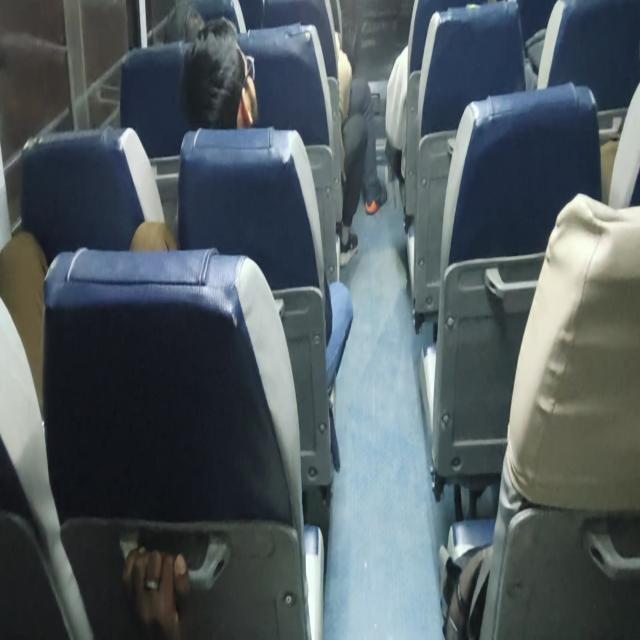person: (195, 38, 270, 131), (146, 0, 216, 41)
